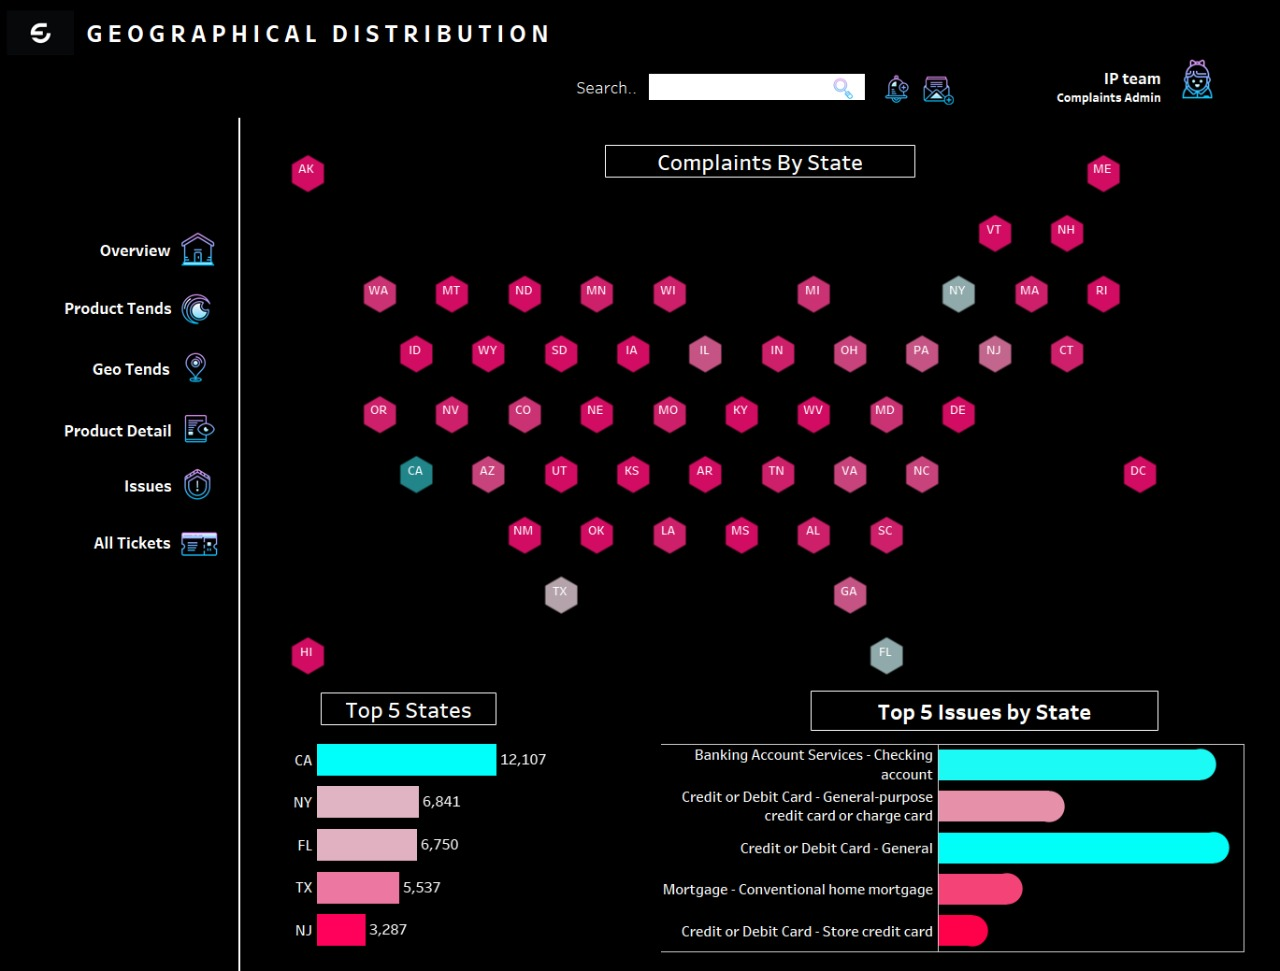

The dashboard page shown, as its layout file describes it:
{"tool":"tableau","page":{"name":"Geo Trneding","canvas":[1400,1100],"ordinal":0},"visuals":[{"type":"text","box":[102,23,543,50]},{"type":"image","param":"Image/360_F_396950188_ydxRS4NYfG9m2hhmGrhLL0HtvlkpDrM2.jpg","box":[20,24,72,70]},{"type":"image","param":"Image/icons8-businesswoman-64.png","box":[1268,72,51,54]},{"type":"text","box":[1086,82.5,172,45.1]},{"type":"image","param":"Image/icons8-add-reminder-64.png","box":[954,90,36,37]},{"type":"text","box":[626,91,100,30]},{"type":"image","param":"Image/icons8-add-mail-64.png","box":[999,91,35,34]},{"type":"image","param":"Image/icons8-search-more-64.png","box":[901,94,39,27]},{"type":"worksheet","title":"Map","mark":"Automatic","rows":["Row"],"cols":["Column"],"box":[303,129,1006,645]},{"type":"text","box":[660,168,332,35]},{"type":"dashboard-object","box":[203,257,43,44]},{"type":"text","box":[99,264,100,33]},{"type":"dashboard-object","box":[203,323,39,41]},{"type":"text","box":[78,325.6,122,33]},{"type":"dashboard-object","box":[203,385,38,42]},{"type":"text","box":[98,390.5,100,33]},{"type":"dashboard-object","box":[207,452,39,39]},{"type":"text","box":[77,456.5,123,33]},{"type":"dashboard-object","box":[204,509,40,45]},{"type":"text","box":[100,515.9,100,33]},{"type":"dashboard-object","box":[203,574,47,42]},{"type":"text","box":[99,577,100,33]},{"type":"text","box":[880,752,372,43]},{"type":"text","box":[356,754,188,35]},{"type":"worksheet","title":"Top 10 States","mark":"Automatic","rows":["State"],"cols":["Complaint ID (copy)_2064900483920195585"],"box":[296,803,316,228]},{"type":"worksheet","title":"Top 10 Per State","mark":"Automatic","rows":["Calculation_517914012285628424"],"cols":["Complaint ID (copy)_2064900483920195585","Complaint ID (copy)_2064900483920195585"],"box":[720,809,624,223]}]}

Visuals, with their boxes on the page's 1400x1100 design canvas (x1, y1, x2, y2). These are canvas units, not pixel positions in the 1280x971 screenshot, which may show the page scaled, cropped or inside an application window:
text: {"x1": 102, "y1": 23, "x2": 645, "y2": 73}
image: {"x1": 20, "y1": 24, "x2": 92, "y2": 94}
image: {"x1": 1268, "y1": 72, "x2": 1319, "y2": 126}
text: {"x1": 1086, "y1": 82, "x2": 1258, "y2": 128}
image: {"x1": 954, "y1": 90, "x2": 990, "y2": 127}
text: {"x1": 626, "y1": 91, "x2": 726, "y2": 121}
image: {"x1": 999, "y1": 91, "x2": 1034, "y2": 125}
image: {"x1": 901, "y1": 94, "x2": 940, "y2": 121}
"Map" worksheet: {"x1": 303, "y1": 129, "x2": 1309, "y2": 774}
text: {"x1": 660, "y1": 168, "x2": 992, "y2": 203}
dashboard-object: {"x1": 203, "y1": 257, "x2": 246, "y2": 301}
text: {"x1": 99, "y1": 264, "x2": 199, "y2": 297}
dashboard-object: {"x1": 203, "y1": 323, "x2": 242, "y2": 364}
text: {"x1": 78, "y1": 326, "x2": 200, "y2": 359}
dashboard-object: {"x1": 203, "y1": 385, "x2": 241, "y2": 427}
text: {"x1": 98, "y1": 390, "x2": 198, "y2": 424}
dashboard-object: {"x1": 207, "y1": 452, "x2": 246, "y2": 491}
text: {"x1": 77, "y1": 456, "x2": 200, "y2": 490}
dashboard-object: {"x1": 204, "y1": 509, "x2": 244, "y2": 554}
text: {"x1": 100, "y1": 516, "x2": 200, "y2": 549}
dashboard-object: {"x1": 203, "y1": 574, "x2": 250, "y2": 616}
text: {"x1": 99, "y1": 577, "x2": 199, "y2": 610}
text: {"x1": 880, "y1": 752, "x2": 1252, "y2": 795}
text: {"x1": 356, "y1": 754, "x2": 544, "y2": 789}
"Top 10 States" worksheet: {"x1": 296, "y1": 803, "x2": 612, "y2": 1031}
"Top 10 Per State" worksheet: {"x1": 720, "y1": 809, "x2": 1344, "y2": 1032}
